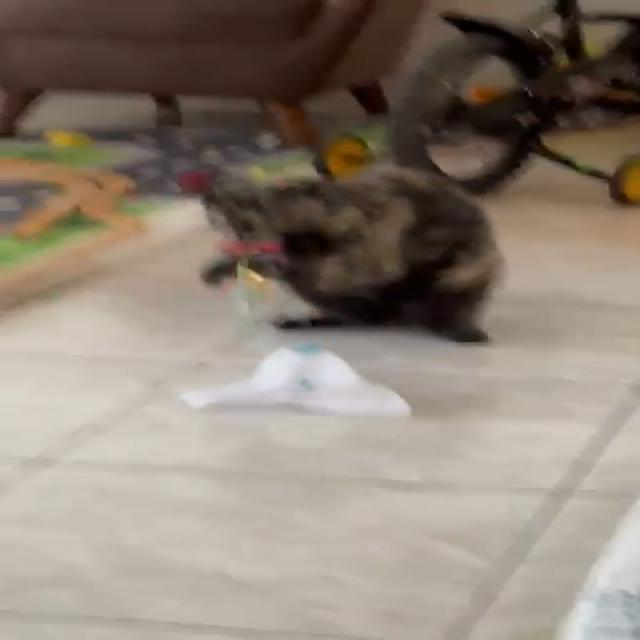authorized: (194, 153, 506, 344)
